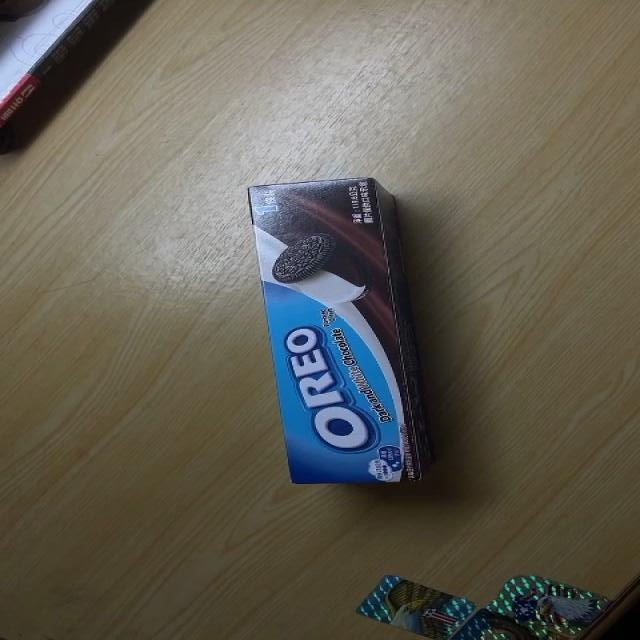Oreo: (245, 175, 443, 484)
